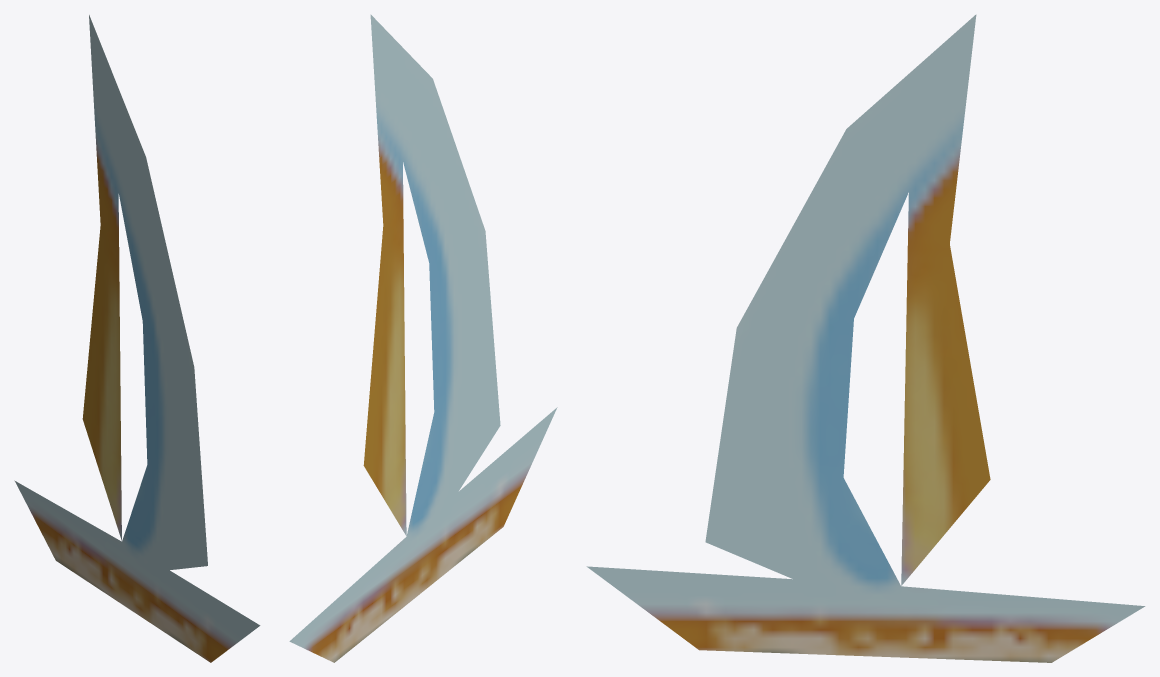
File: scenes_beach_boat01.FBX
3 renders of one model, left to right at view 1: azimuth 30°, elevation 25°; view 2: azimuth 150°, elevation 25°; view 3: azimuth 270°, elevation 25°, orthographic. The views are drawn at different scales.
Visible parts, largest first — view 1: scenes_beach_boat01; view 2: scenes_beach_boat01; view 3: scenes_beach_boat01.
Part boxes in pixels (x1,y1,x2,y2): scenes_beach_boat01: (14,15,260,662); scenes_beach_boat01: (289,14,557,662); scenes_beach_boat01: (586,14,1145,662).
Bounding box in the file's own units: 7.7e-05 × 218 × 171.
